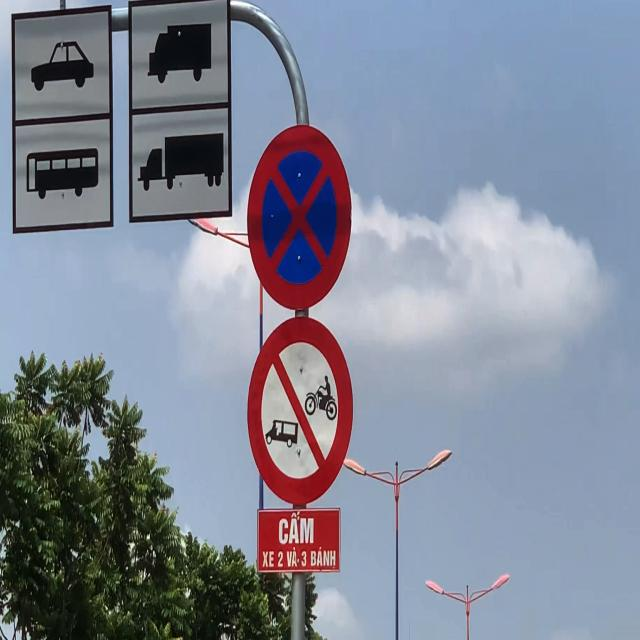Cam dung va do: (244, 118, 355, 316)
